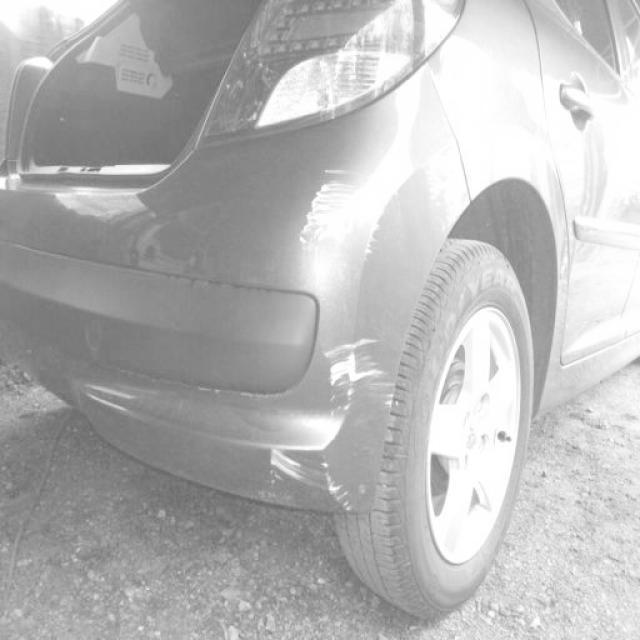car damage: (272, 448, 359, 515), (301, 172, 376, 241), (326, 339, 391, 412), (80, 376, 147, 418)
